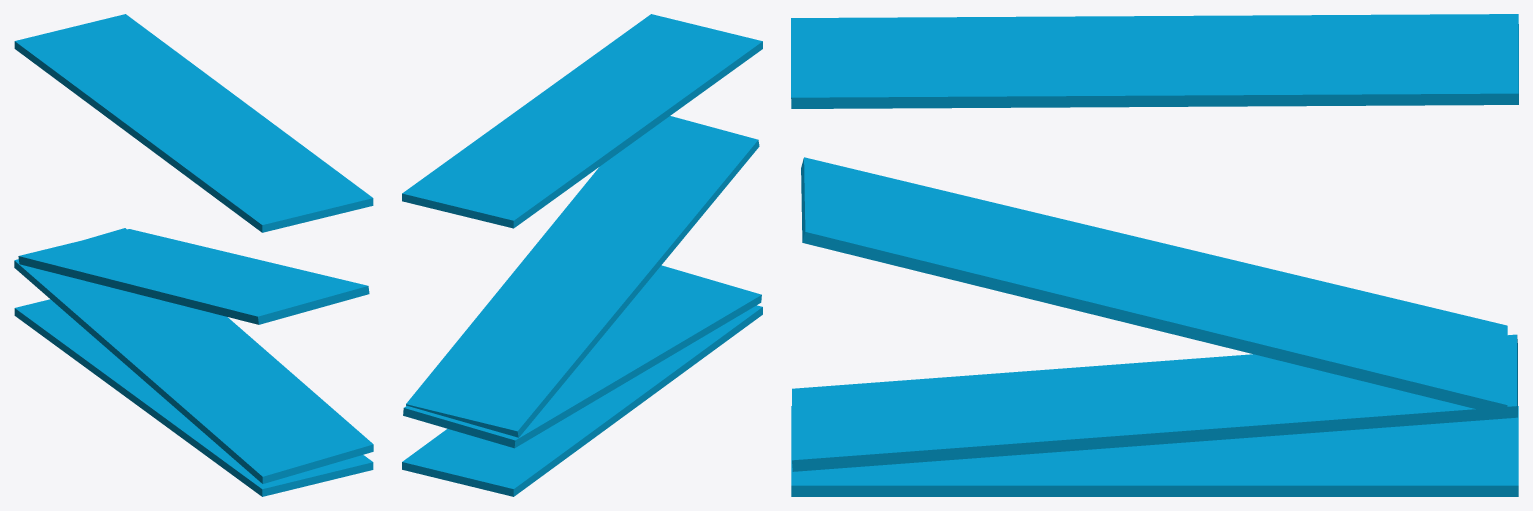
File: Warehouse_Shelf_01_Break_Lod1.fbx
3 views of the same model, side by side, from view 1: azimuth 30°, elevation 25°; view 2: azimuth 150°, elevation 25°; view 3: azimuth 270°, elevation 25° (orthographic). The views are drawn at different scales.
Parts seen in each view (by area): view 1: Warehouse_Shelf_01_Break_Lod1; view 2: Warehouse_Shelf_01_Break_Lod1; view 3: Warehouse_Shelf_01_Break_Lod1.
Boxes of the visible parts, x1,y1,x2,y2 form: Warehouse_Shelf_01_Break_Lod1: [14, 14, 373, 496]; Warehouse_Shelf_01_Break_Lod1: [402, 14, 762, 496]; Warehouse_Shelf_01_Break_Lod1: [791, 14, 1518, 496].
Bounding box in the file's own units: 72.55 × 169 × 276.
